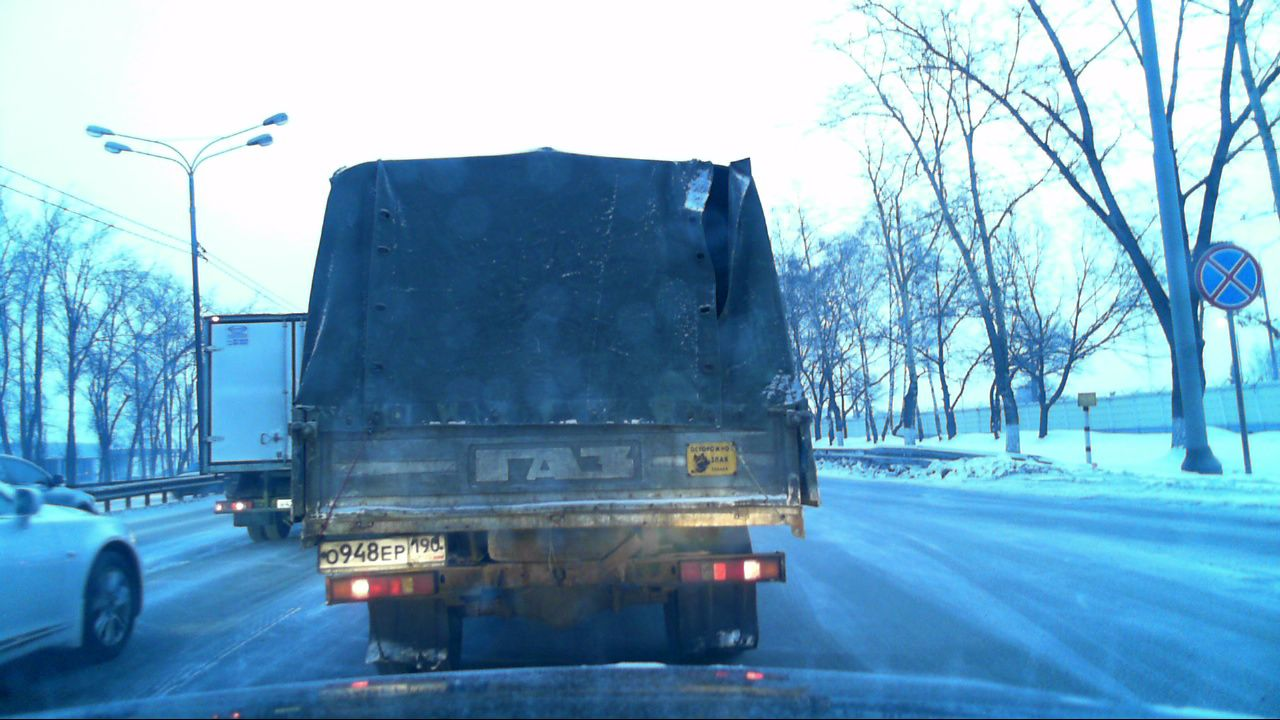No Parking: (1195, 243, 1261, 310)
